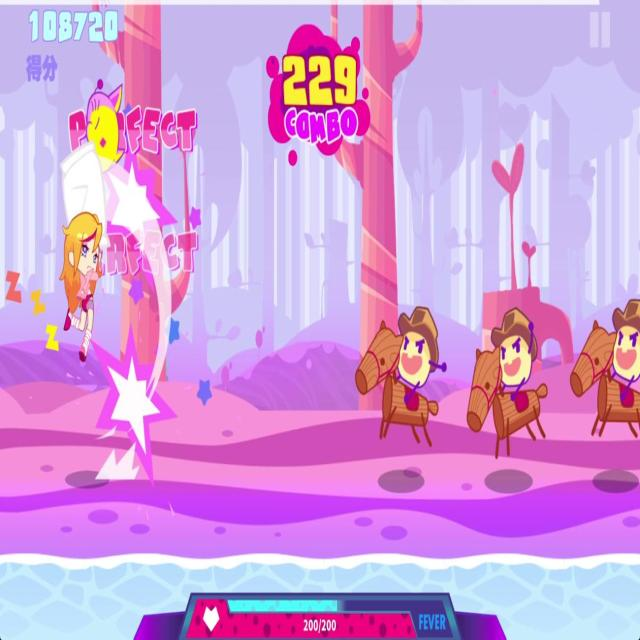qiu: (352, 293, 448, 457), (462, 303, 550, 464), (568, 290, 640, 450)
